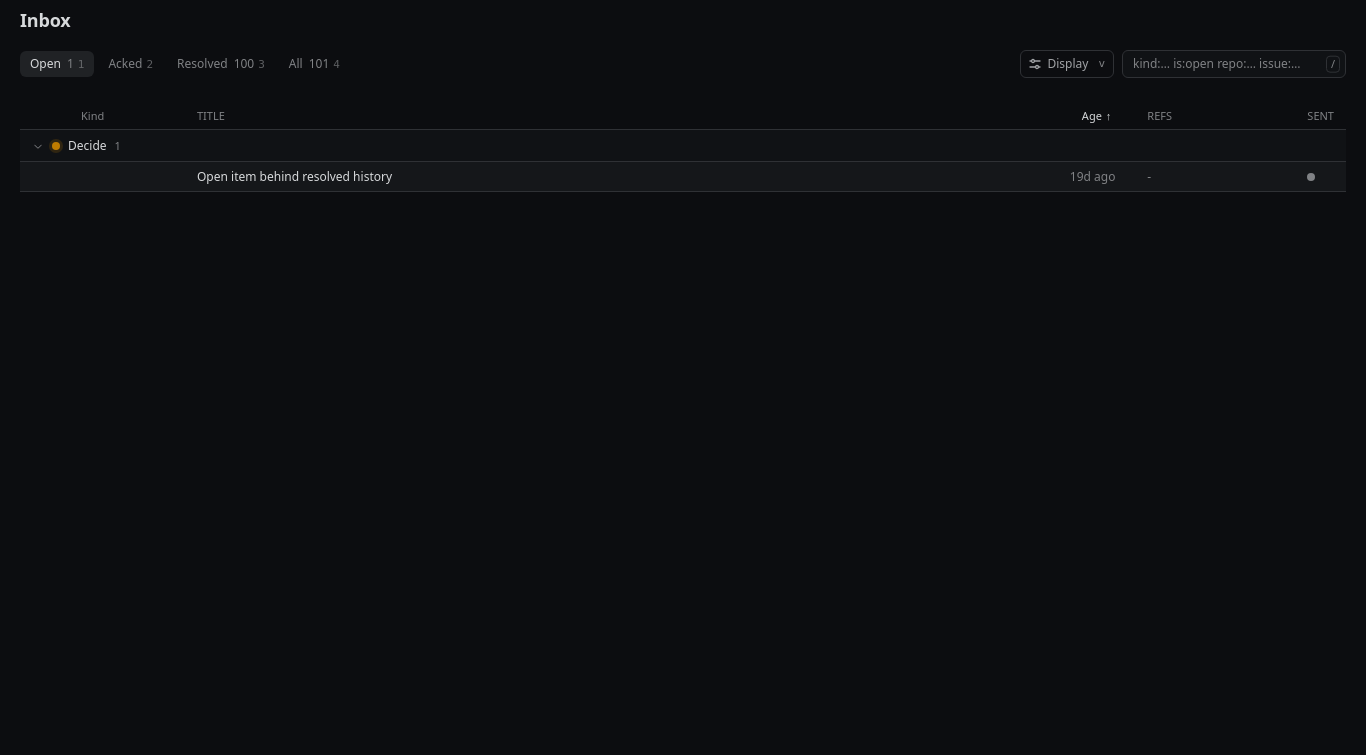
Test: Inbox view › keeps open items and their badge visible past a resolved cursor page
The width and height of the screenshot is (1366, 755).
Expected: the text "Open item behind resolved history" is shown, [197,168,392,185]
Expected: the tab "Open11" is shown, [20,51,94,77]
Click the tab "Resolved1003".
click(221, 64)  # box [167,51,275,77]
(page scrolled)
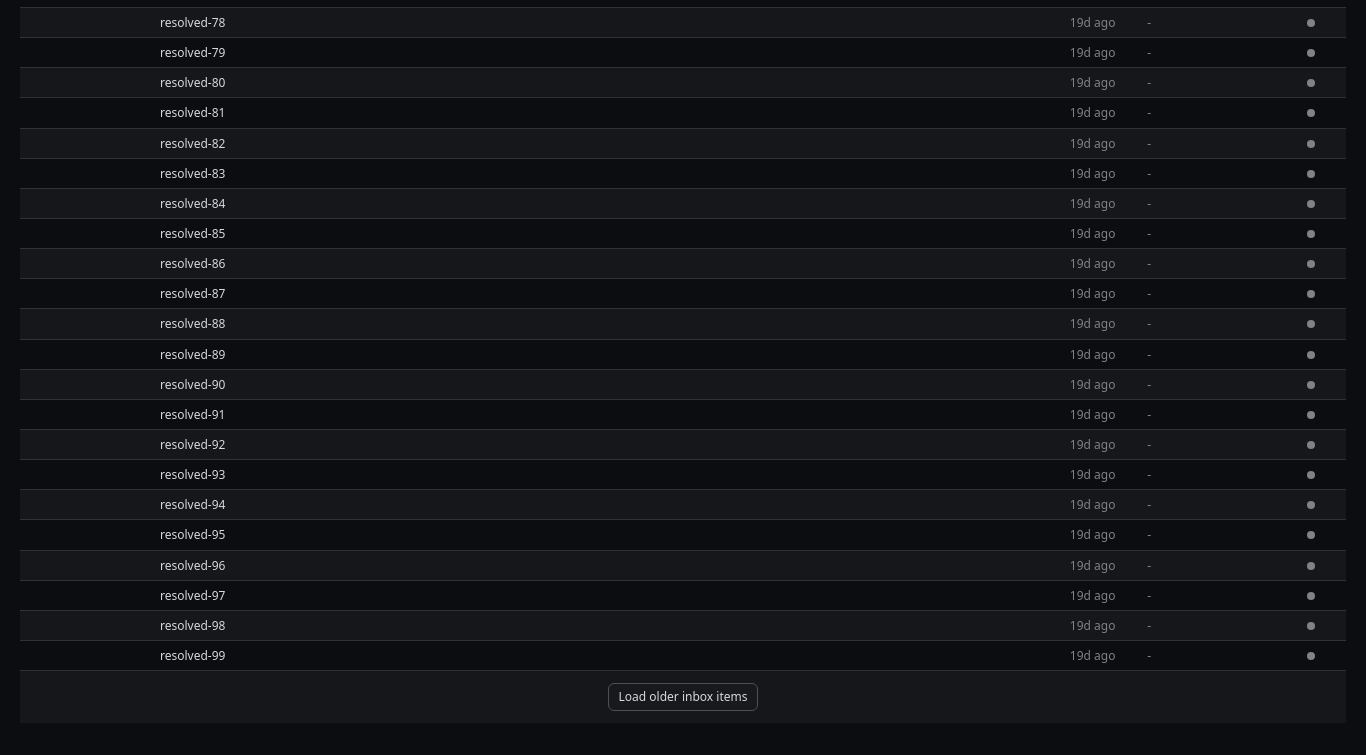
Now the button "Load older inbox items" is shown, box [608,683,758,711]
